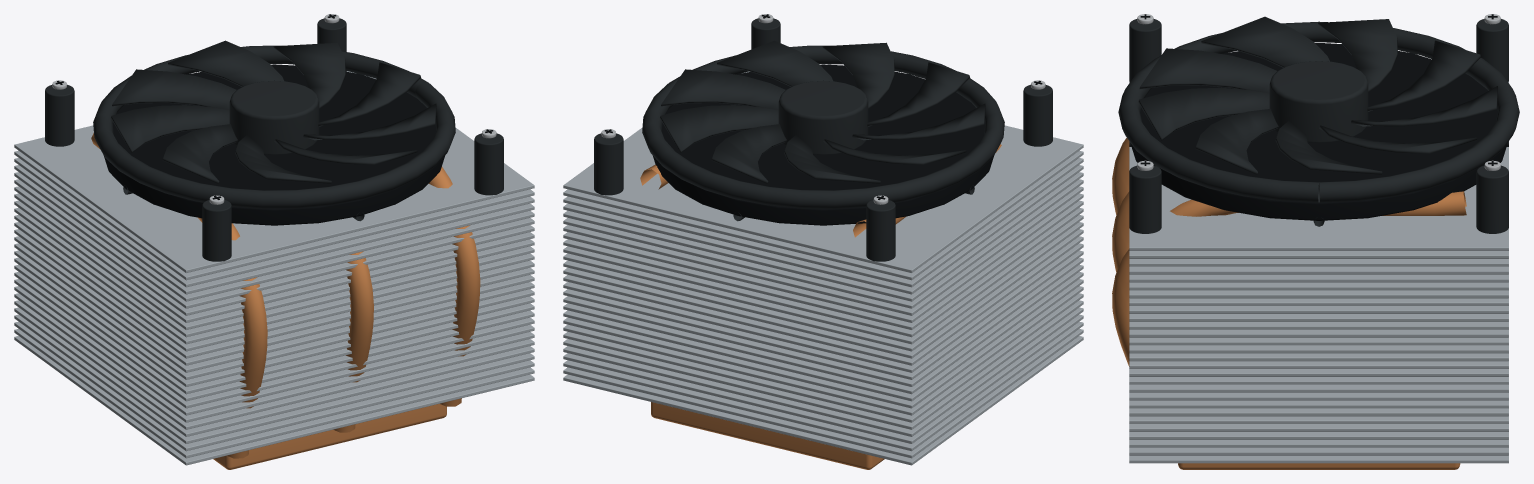
Rendered from cpu-cooler.glb.
The picture shows the model from 3 angles, left to right: view 1: azimuth 30°, elevation 25°; view 2: azimuth 150°, elevation 25°; view 3: azimuth 270°, elevation 25°; orthographic projection. The views are drawn at different scales.
Parts seen in each view (by area): view 1: CPU_COOLER / Satin aluminium, Fan rotor assembly.002 / Fine moulded ABS, Fan shadow.002, CPU_COOLER / Copper heat pipes, CPU_COOLER / Fine moulded ABS; view 2: CPU_COOLER / Satin aluminium, Fan rotor assembly.002 / Fine moulded ABS, Fan shadow.002, CPU_COOLER / Fine moulded ABS, CPU_COOLER / Copper heat pipes; view 3: CPU_COOLER / Satin aluminium, Fan rotor assembly.002 / Fine moulded ABS, Fan shadow.002, CPU_COOLER / Fine moulded ABS, CPU_COOLER / Copper heat pipes, CPU_COOLER / Nickel plated fasteners.
Part boxes in pixels (box(x1,y1,x2,y2)): CPU_COOLER / Satin aluminium: box(14, 71, 534, 465); Fan rotor assembly.002 / Fine moulded ABS: box(93, 40, 455, 221); Fan shadow.002: box(103, 64, 445, 225); CPU_COOLER / Copper heat pipes: box(91, 133, 480, 469); CPU_COOLER / Fine moulded ABS: box(45, 18, 503, 261); CPU_COOLER / Satin aluminium: box(563, 71, 1083, 465); Fan rotor assembly.002 / Fine moulded ABS: box(642, 40, 1004, 221); Fan shadow.002: box(652, 64, 994, 225); CPU_COOLER / Fine moulded ABS: box(594, 18, 1052, 261); CPU_COOLER / Copper heat pipes: box(640, 144, 1001, 469); CPU_COOLER / Satin aluminium: box(1129, 81, 1508, 463); Fan rotor assembly.002 / Fine moulded ABS: box(1118, 16, 1519, 226); Fan shadow.002: box(1130, 43, 1507, 220); CPU_COOLER / Fine moulded ABS: box(1129, 19, 1508, 233); CPU_COOLER / Copper heat pipes: box(1112, 138, 1466, 469); CPU_COOLER / Nickel plated fasteners: box(1137, 14, 1500, 170).
Size of the model in its own units: 0.082 by 0.0675 by 0.0751.
